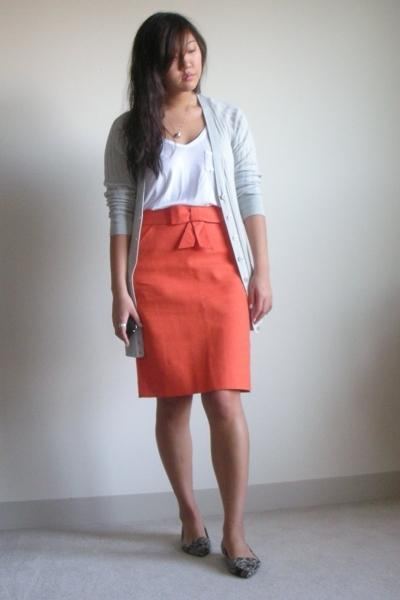jacket: (104, 88, 257, 289)
shirt: (138, 122, 222, 223)
skirt: (133, 204, 251, 400)
